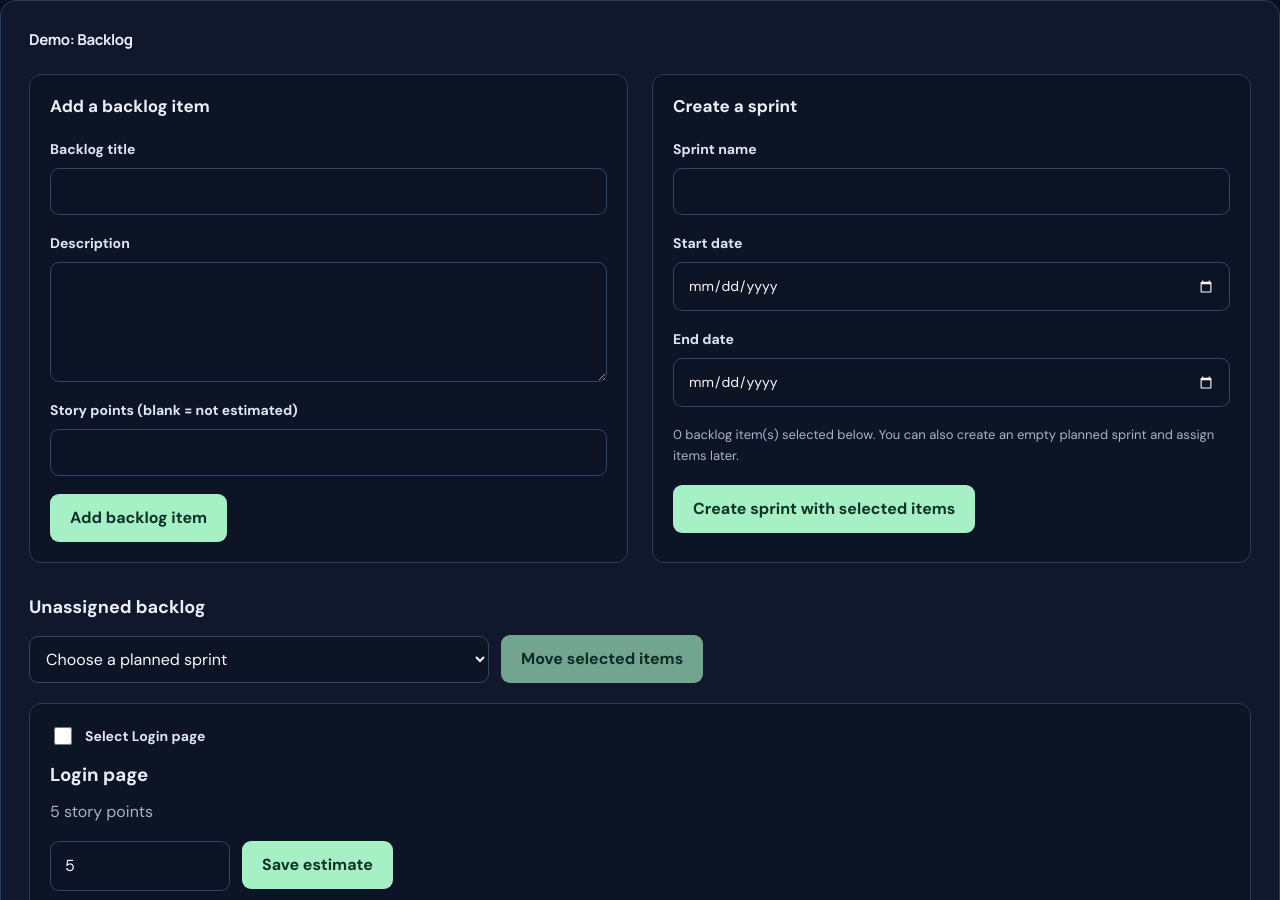
Test case: creates a backlog item with a numeric story point estimate
The image size is (1280, 900).
Expected: the heading "Demo: Backlog" is shown, [29, 29, 133, 50]
Type "New task" into the field labelled "Backlog title" at (328, 192), box [50, 168, 607, 215]
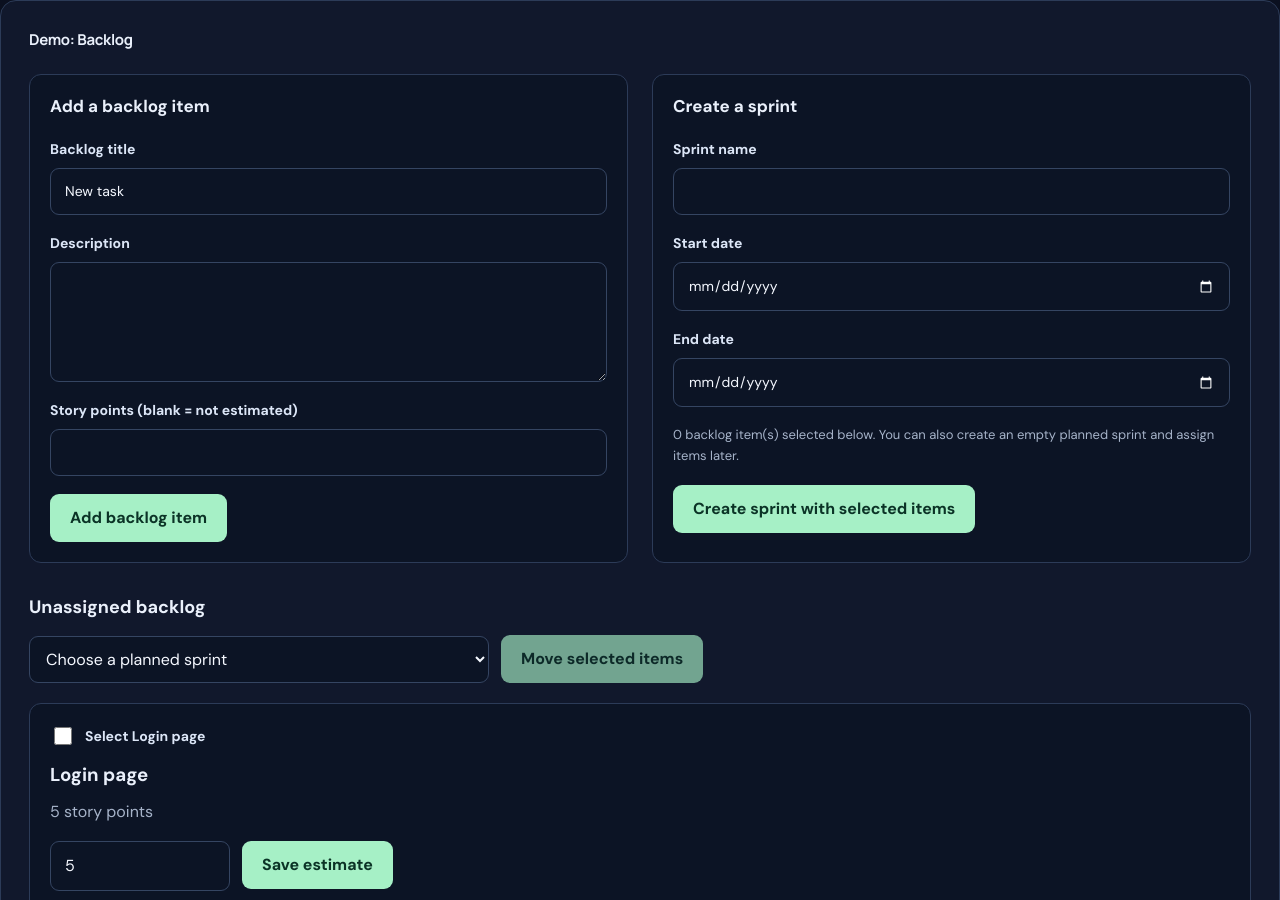
Type "8" into the number field labelled "Story points (blank = not estimated)" at (328, 452), box [50, 429, 607, 476]
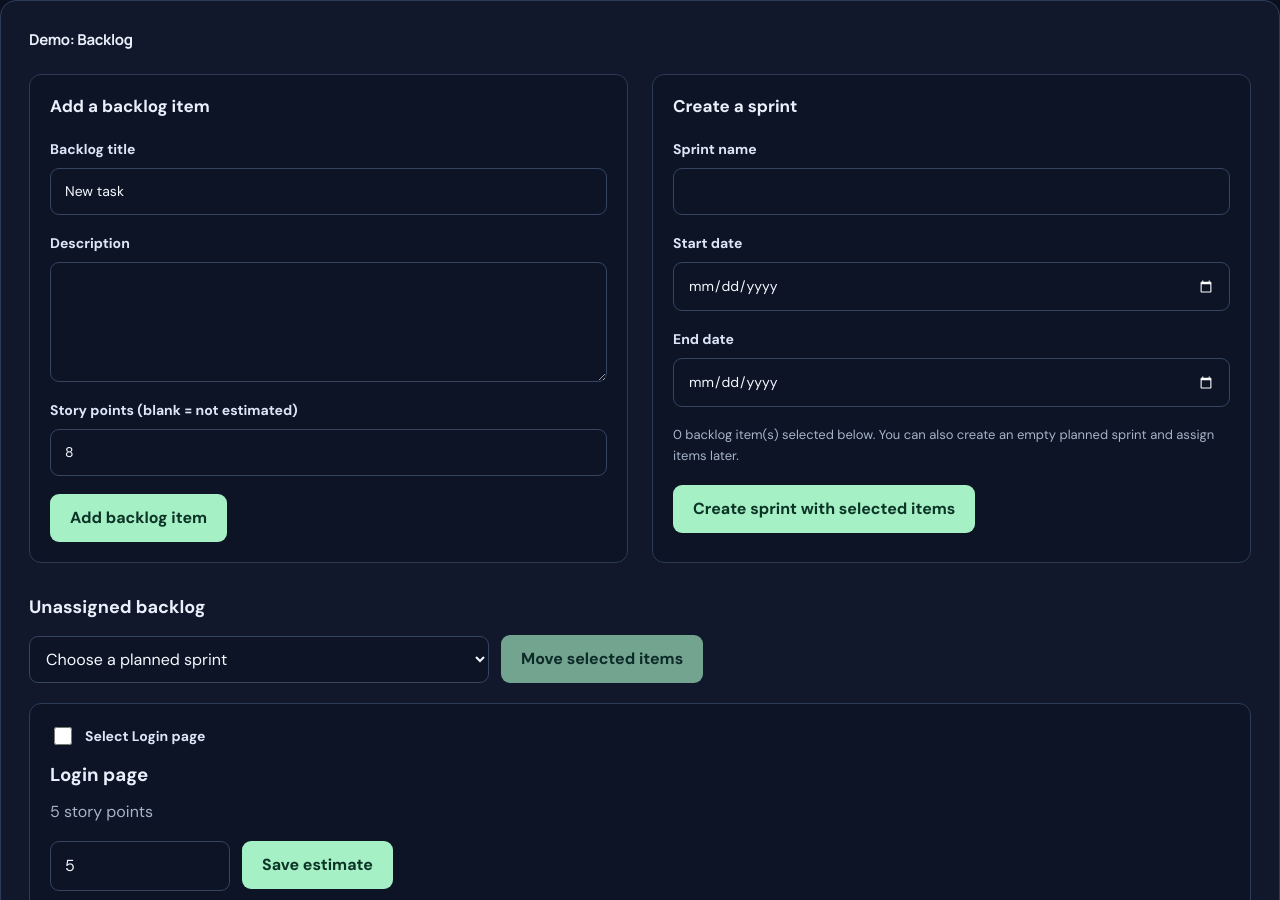
Click the button "Add backlog item" at (139, 518), box [50, 494, 227, 542]
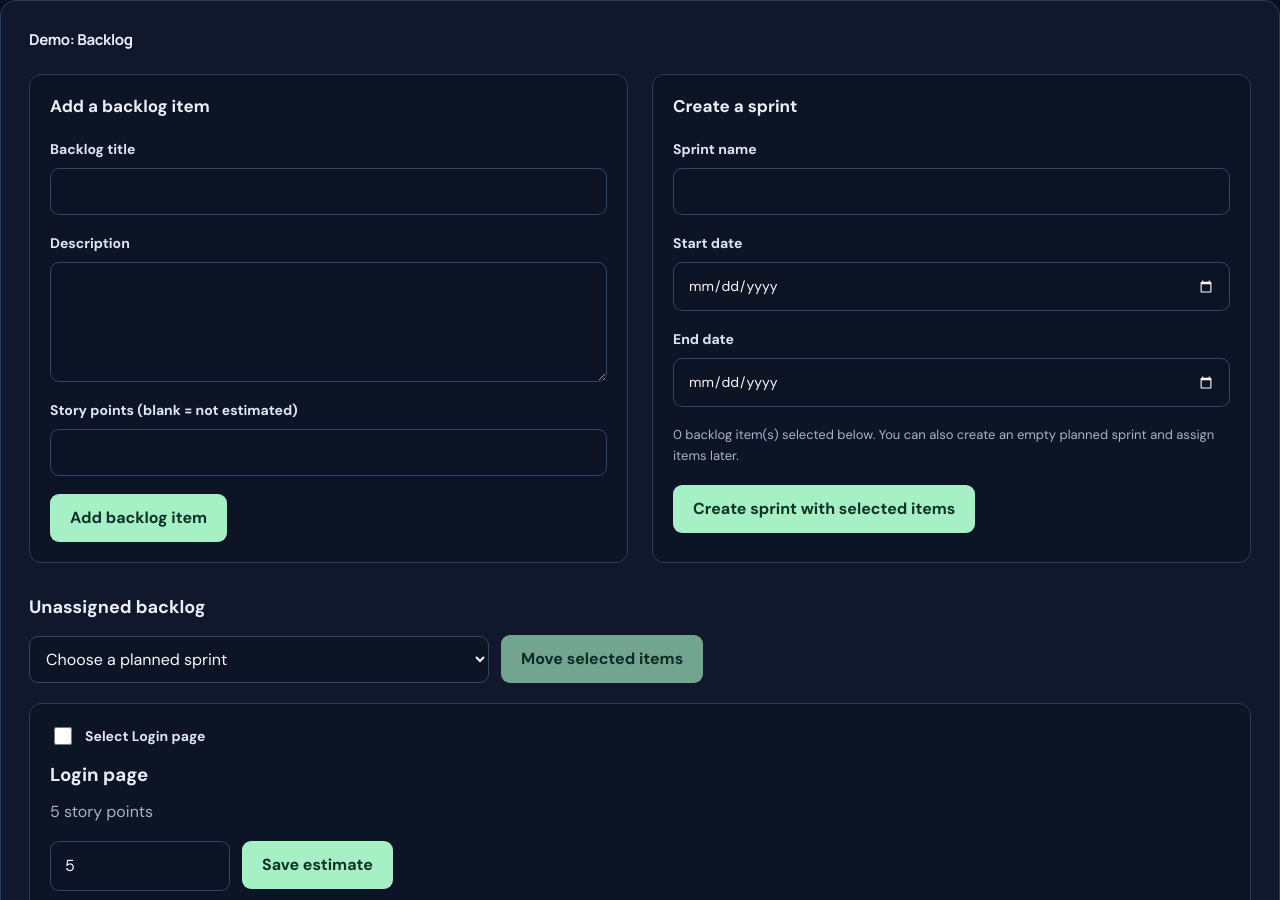
Expected: the field labelled "Backlog title" is empty, [50, 168, 607, 215]
